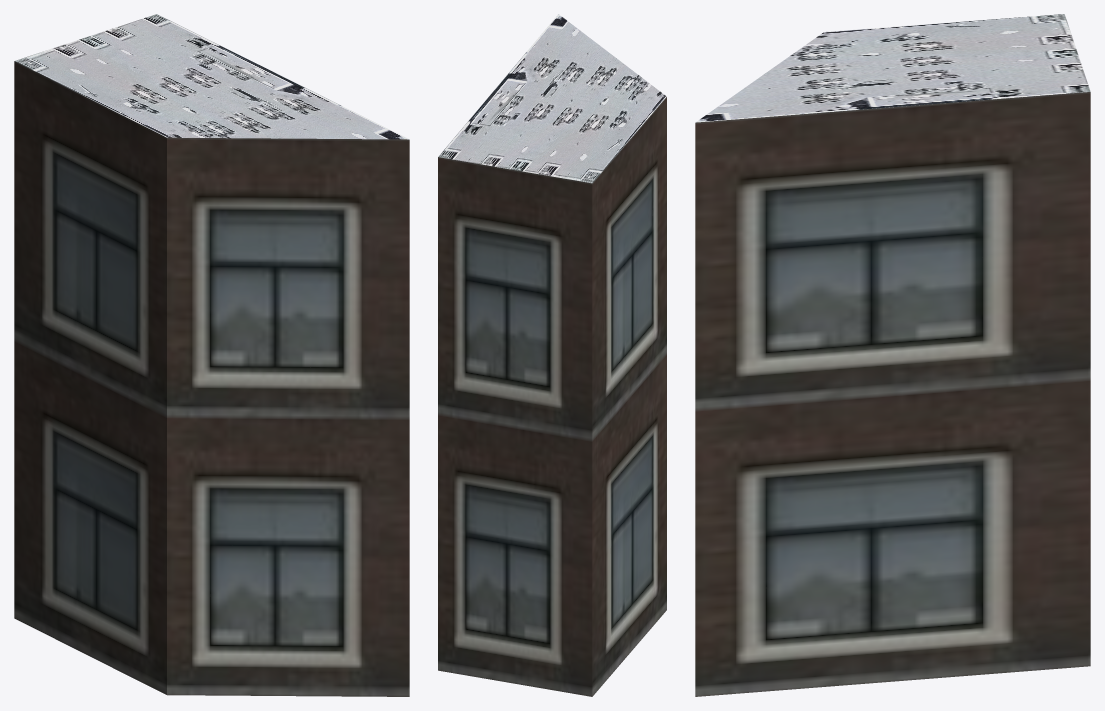
File: ResTex__4677.fbx
3 renders of one model, left to right at view 1: azimuth 30°, elevation 25°; view 2: azimuth 150°, elevation 25°; view 3: azimuth 270°, elevation 25°, orthographic. The views are drawn at different scales.
Parts seen in each view (by area): view 1: CityEngineMaterial_16_m, CityEngineMaterial_15_m; view 2: CityEngineMaterial_16_m, CityEngineMaterial_15_m; view 3: CityEngineMaterial_16_m, CityEngineMaterial_15_m.
Boxes of the visible parts, x1,y1,x2,y2 form: CityEngineMaterial_16_m: (14,61,409,696); CityEngineMaterial_15_m: (15,14,409,139); CityEngineMaterial_16_m: (438,97,666,696); CityEngineMaterial_15_m: (438,14,666,183); CityEngineMaterial_16_m: (695,92,1090,696); CityEngineMaterial_15_m: (696,14,1090,122).
Bounding box in the file's own units: 2.43 × 6 × 3.74.
2 materials, 2 textured.
